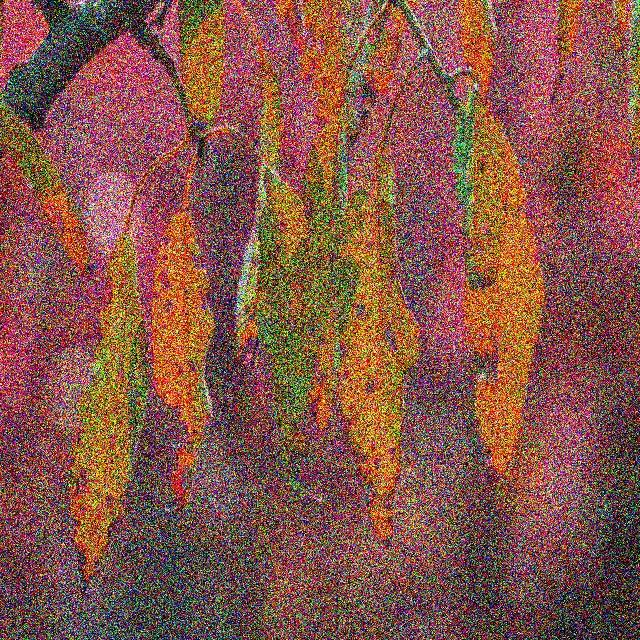shot_hole: (446, 69, 563, 515), (323, 166, 427, 571)
